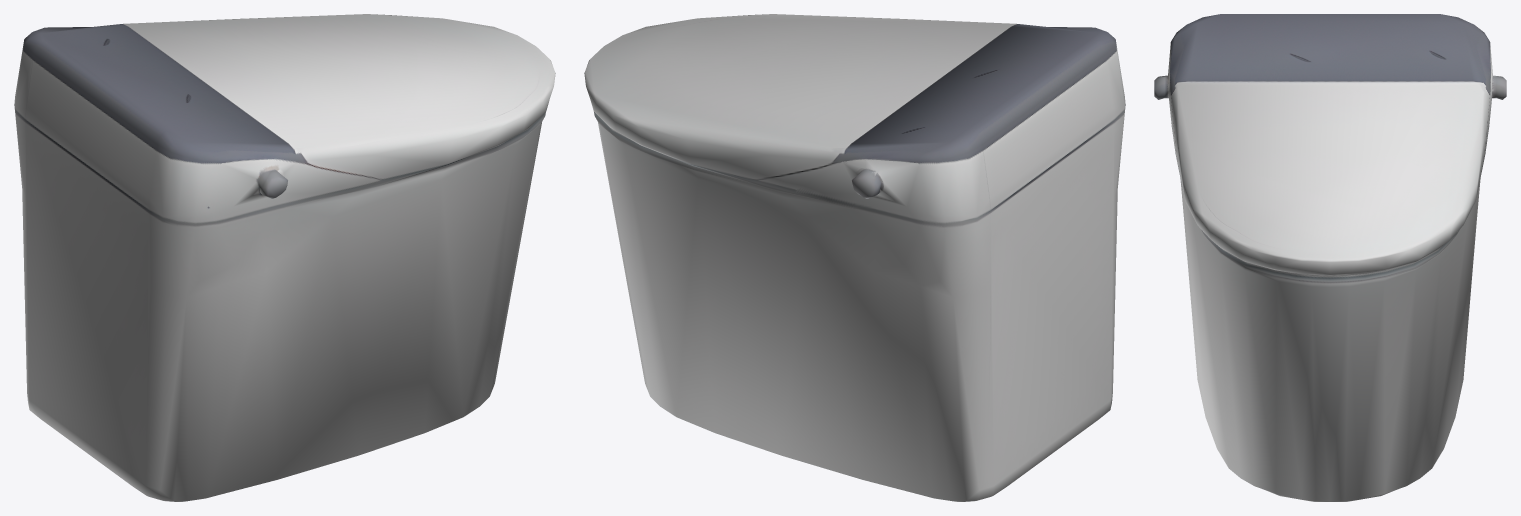
The model's file is closetool.fbx.
3 renders of one model, left to right at view 1: azimuth 30°, elevation 25°; view 2: azimuth 150°, elevation 25°; view 3: azimuth 270°, elevation 25°, orthographic. The views are drawn at different scales.
Parts seen in each view (by area): view 1: texture_v100; view 2: texture_v100; view 3: texture_v100.
Boxes of the visible parts, x1,y1,x2,y2 form: texture_v100: [14, 14, 555, 501]; texture_v100: [584, 14, 1125, 501]; texture_v100: [1154, 14, 1506, 501].
Bounding box in the file's own units: 190 × 147 × 145.
Materials: 1 (1 with a texture image).
